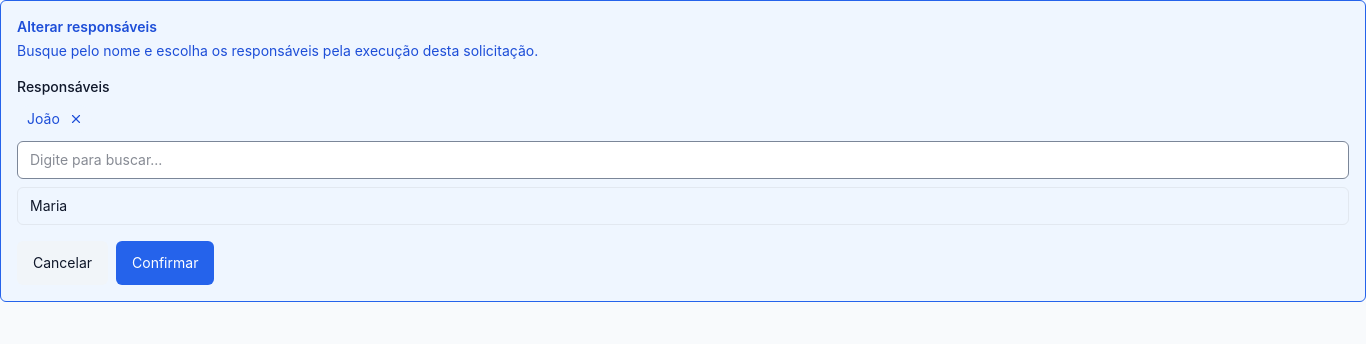
AlterarResponsaveisModal › deve impedir a confirmação quando o último responsável é removido
The width and height of the screenshot is (1366, 344).
Step 1. Click the button named "Remover João" → coordinates (76, 119), box [64, 107, 88, 131]
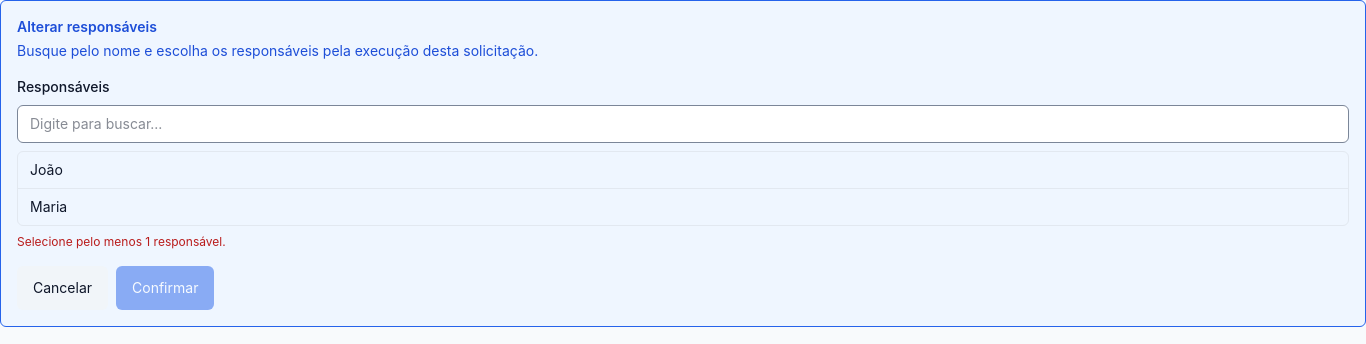
Expected: the button "Confirmar" is disabled, [116, 266, 214, 310]
